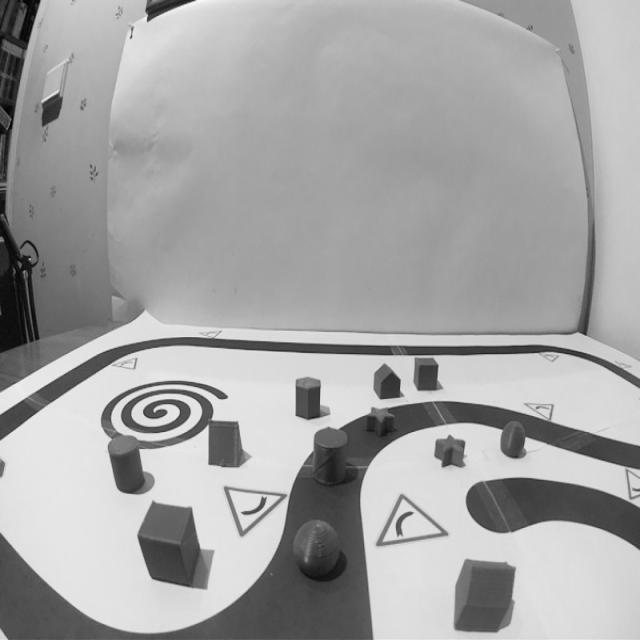ball: (290, 514, 344, 584), (497, 417, 528, 462)
cube: (132, 495, 206, 591), (412, 354, 442, 396)
cylinder: (310, 422, 352, 492), (105, 430, 147, 495)
hexagon: (292, 371, 323, 424)
home: (449, 552, 519, 634), (370, 358, 404, 404)
nest: (97, 374, 230, 452)
rightTurn: (354, 477, 457, 559)
star: (430, 431, 470, 474), (362, 403, 400, 440)
triangle: (206, 416, 246, 474)
